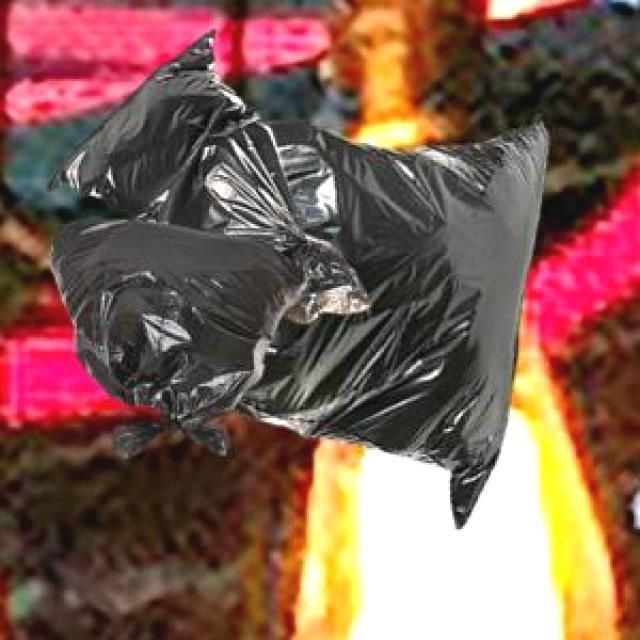Trashbag: (308, 138, 504, 460), (46, 220, 319, 448), (100, 92, 298, 196)
